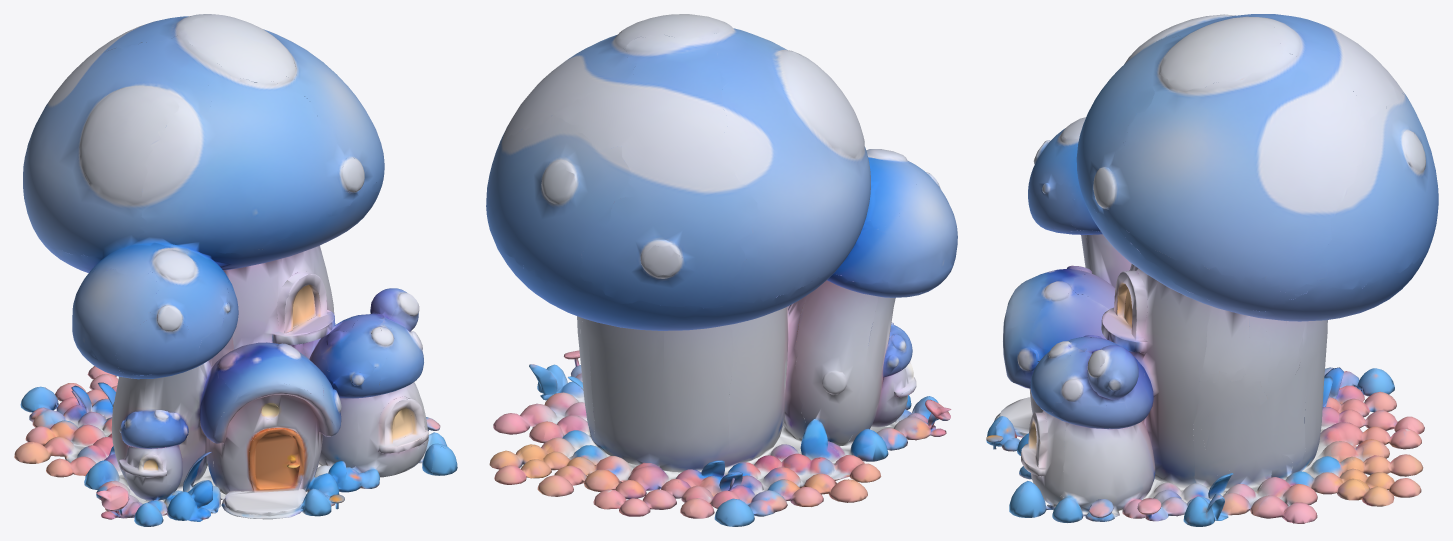
Rendered from rumahjamurbiru.glb.
3 views of the same model, side by side, from view 1: azimuth 30°, elevation 25°; view 2: azimuth 150°, elevation 25°; view 3: azimuth 270°, elevation 25° (orthographic). The views are drawn at different scales.
Visible parts, largest first — view 1: material; view 2: material; view 3: material.
Part boxes in pixels (box(x1,y1,x2,y2)): material: box(14, 14, 457, 526); material: box(486, 14, 957, 526); material: box(986, 14, 1438, 526).
Size of the model in its own units: 0.7167 by 0.7825 by 0.7646.
Materials: 1 (1 with a texture image).
